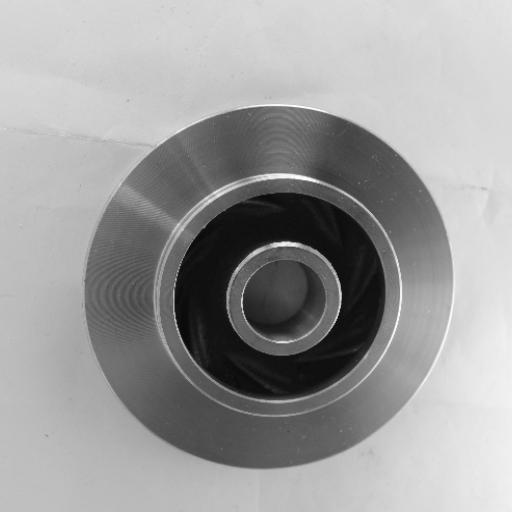polished_casting: (80, 105, 457, 472)
